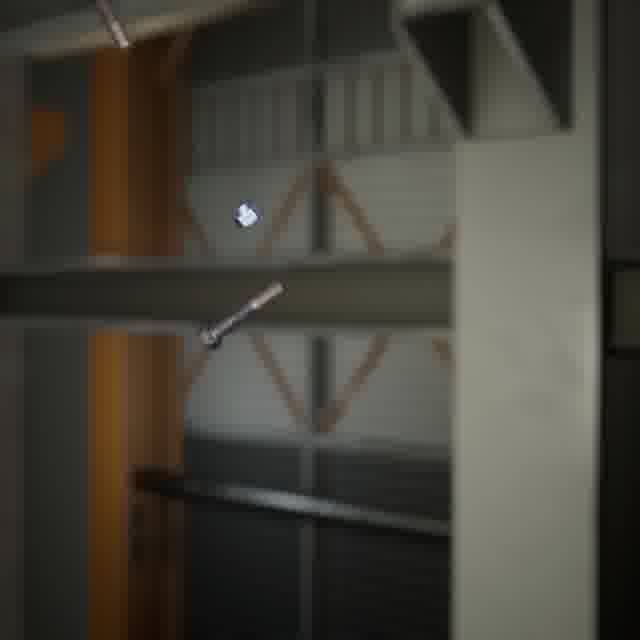bolt: (194, 276, 290, 354), (88, 0, 137, 57)
nut: (227, 194, 267, 231)
